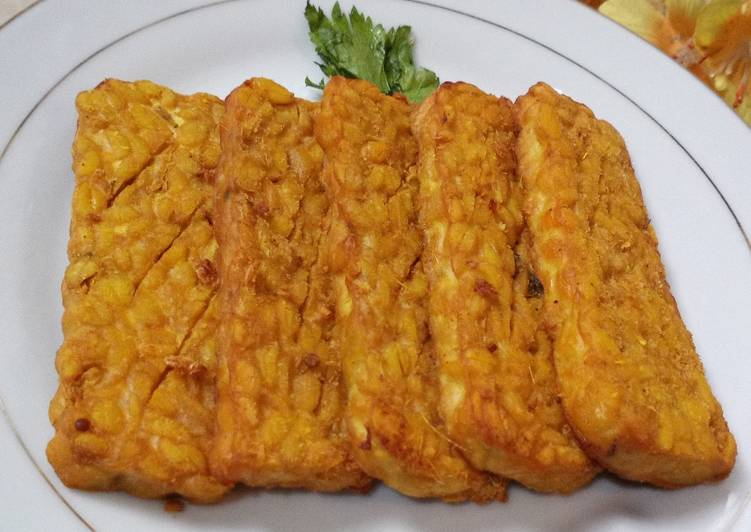Tempe: (513, 88, 732, 475), (400, 96, 565, 477), (64, 108, 222, 492), (299, 85, 448, 476), (203, 97, 347, 484)
